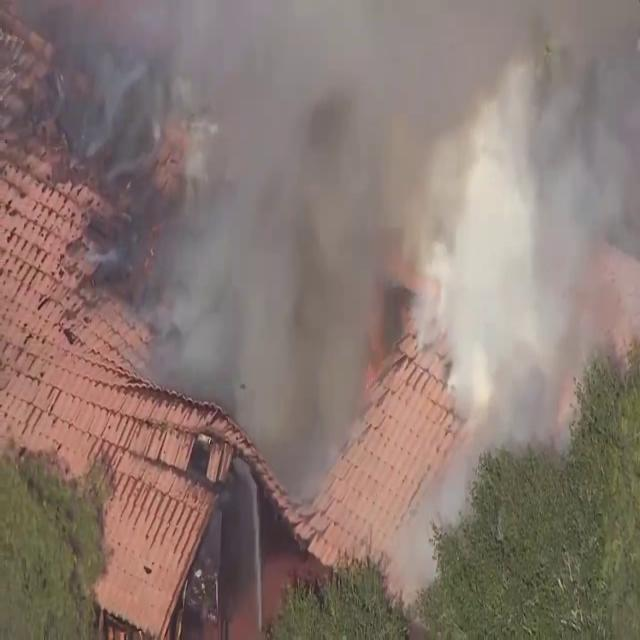Smoke: (40, 0, 640, 564), (414, 1, 640, 477)
